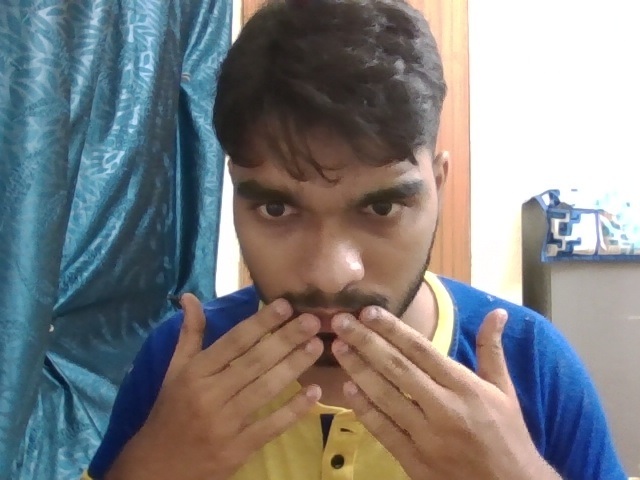Thank You: (159, 269, 546, 480)
